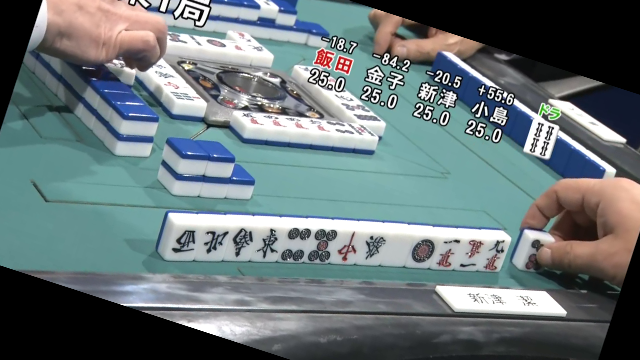Tehai: (156, 205, 510, 278)
